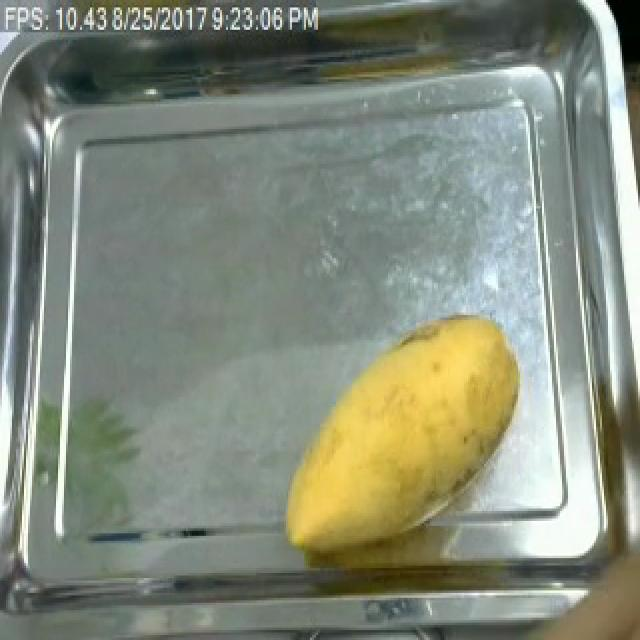fruit: (270, 305, 536, 571)
